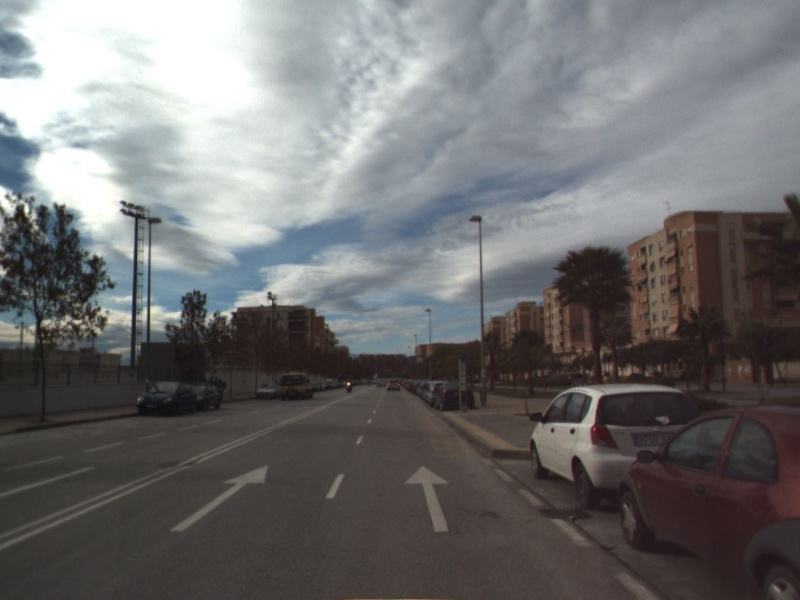STRAIGHT: (167, 463, 270, 533), (402, 463, 452, 533)
